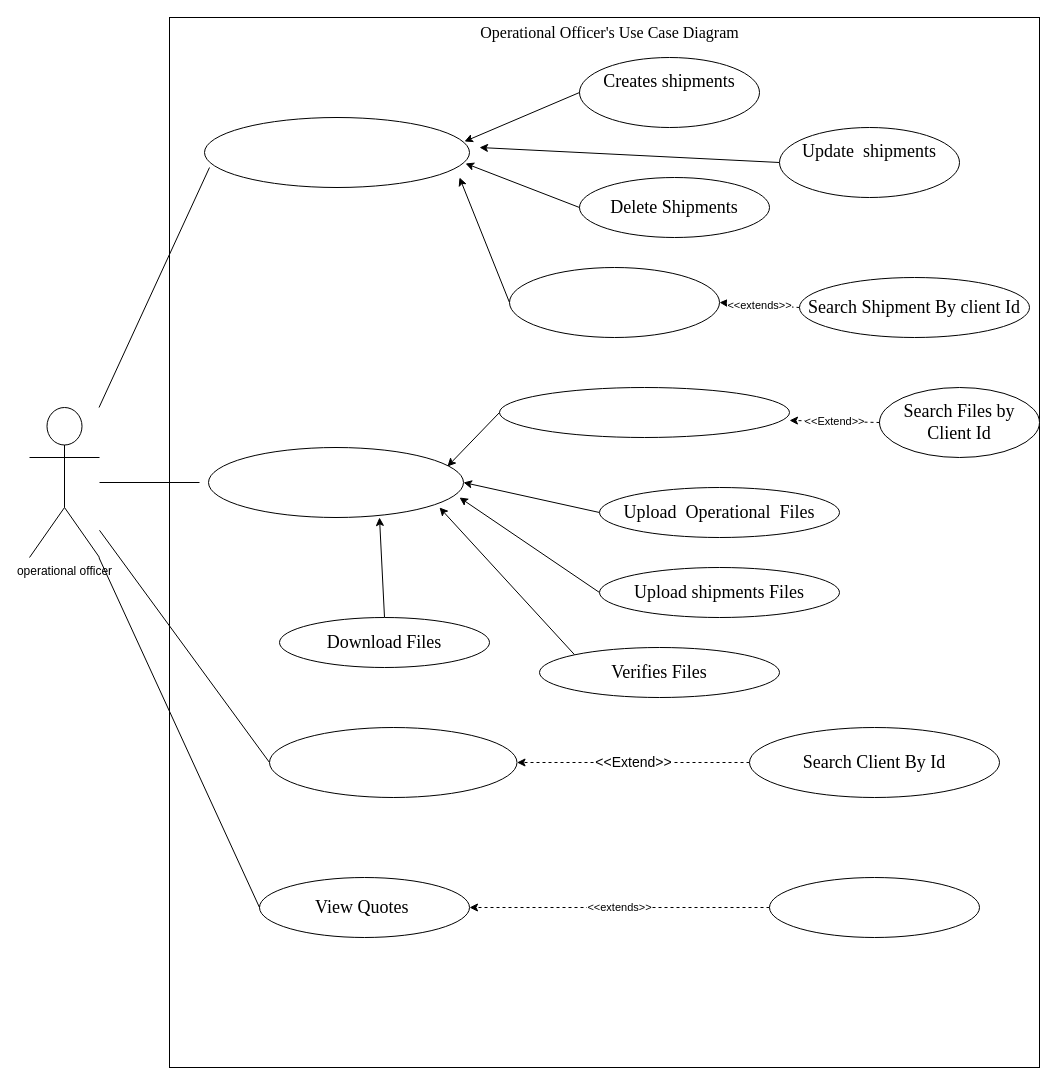
Some shapes in this 1057 by 1085 pixel diagram are drawn without their labels. Here are the shapes that lost their labels. From the top down, the centre of each, then its label:
point 337,152: Manage Shipments
point 614,302: View All shipments
point 644,412: View Operational documents
point 336,482: Manage Operational Documents
point 392,762: Manage Clients
point 874,907: Search Quote ById
